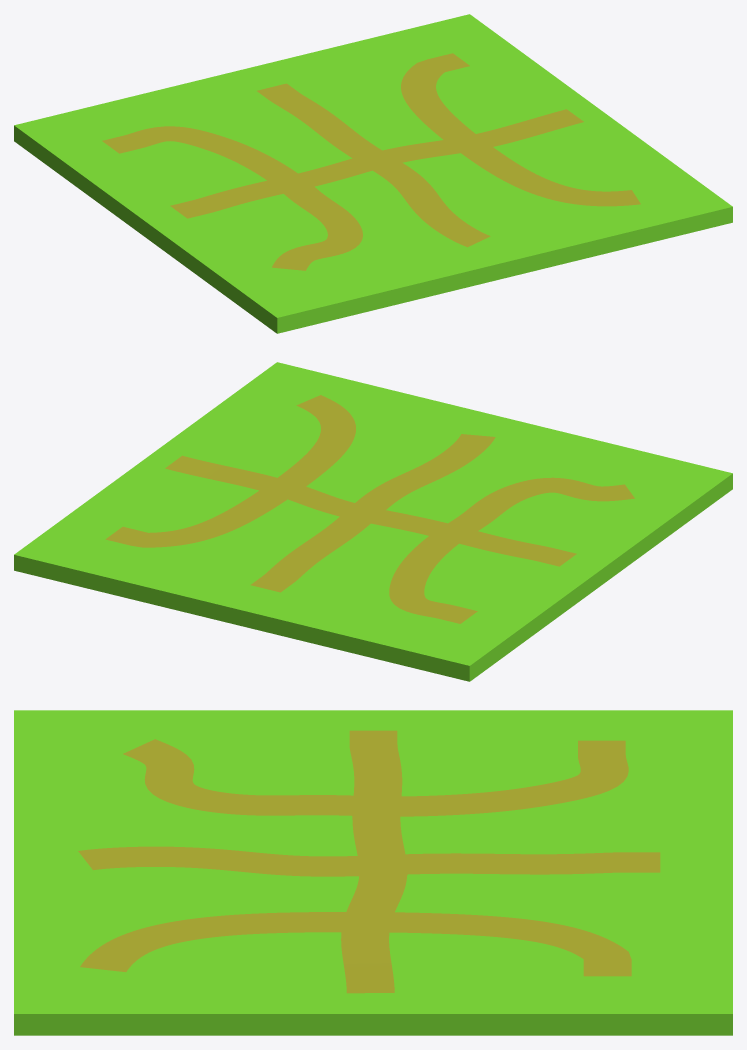
The model's file is Farm_Base.fbx.
3 renders of one model, top to bottom at view 1: azimuth 30°, elevation 25°; view 2: azimuth 150°, elevation 25°; view 3: azimuth 270°, elevation 25°, orthographic. The views are drawn at different scales.
Visible parts, largest first — view 1: Cube, Road.001, Road.002, Road, Road.003; view 2: Cube, Road.001, Road.002, Road, Road.003; view 3: Cube, Road.001, Road.002, Road.003, Road.
Part boxes in pixels (x1,y1,x2,y2): Cube: (14,14,732,333); Road.001: (102,126,362,270); Road.002: (401,53,640,206); Road: (170,109,583,218); Road.003: (257,83,490,247); Cube: (14,362,732,681); Road.001: (389,477,634,623); Road.002: (105,395,355,547); Road: (165,455,576,566); Road.003: (250,434,495,592); Cube: (14,710,732,1035); Road.001: (123,739,628,816); Road.002: (80,912,631,976); Road.003: (78,846,660,876); Road: (341,730,407,993).
Size of the model in its own units: 6000 by 227 by 6000.
